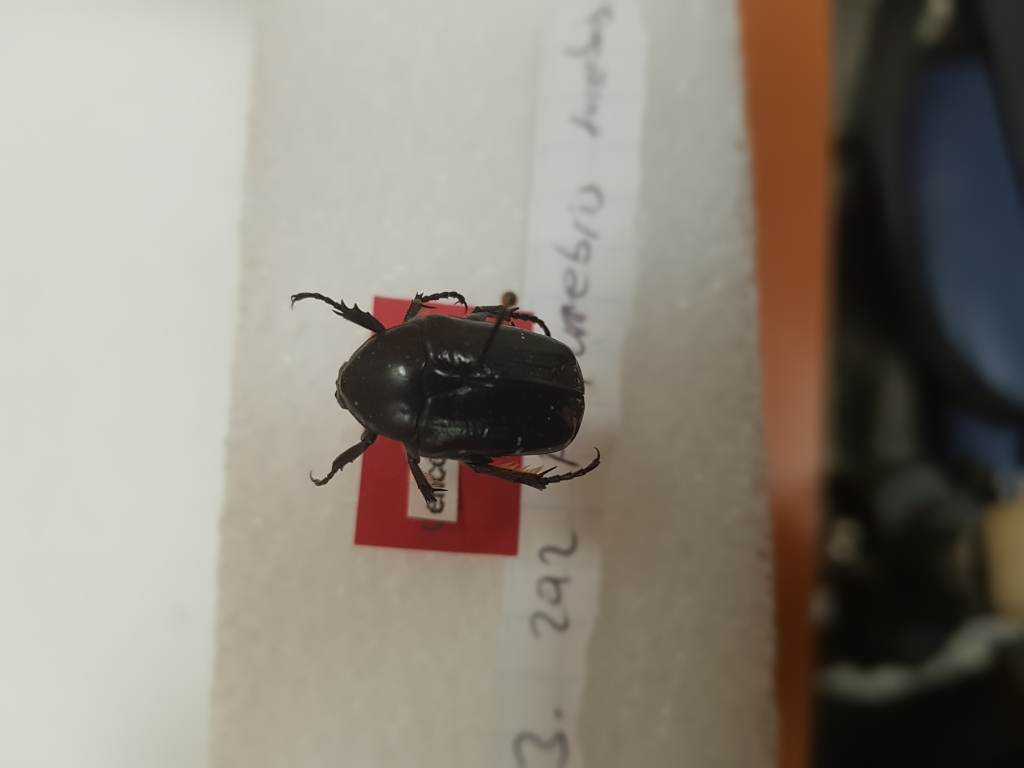Protaetia_funebris: (282, 282, 606, 507)
